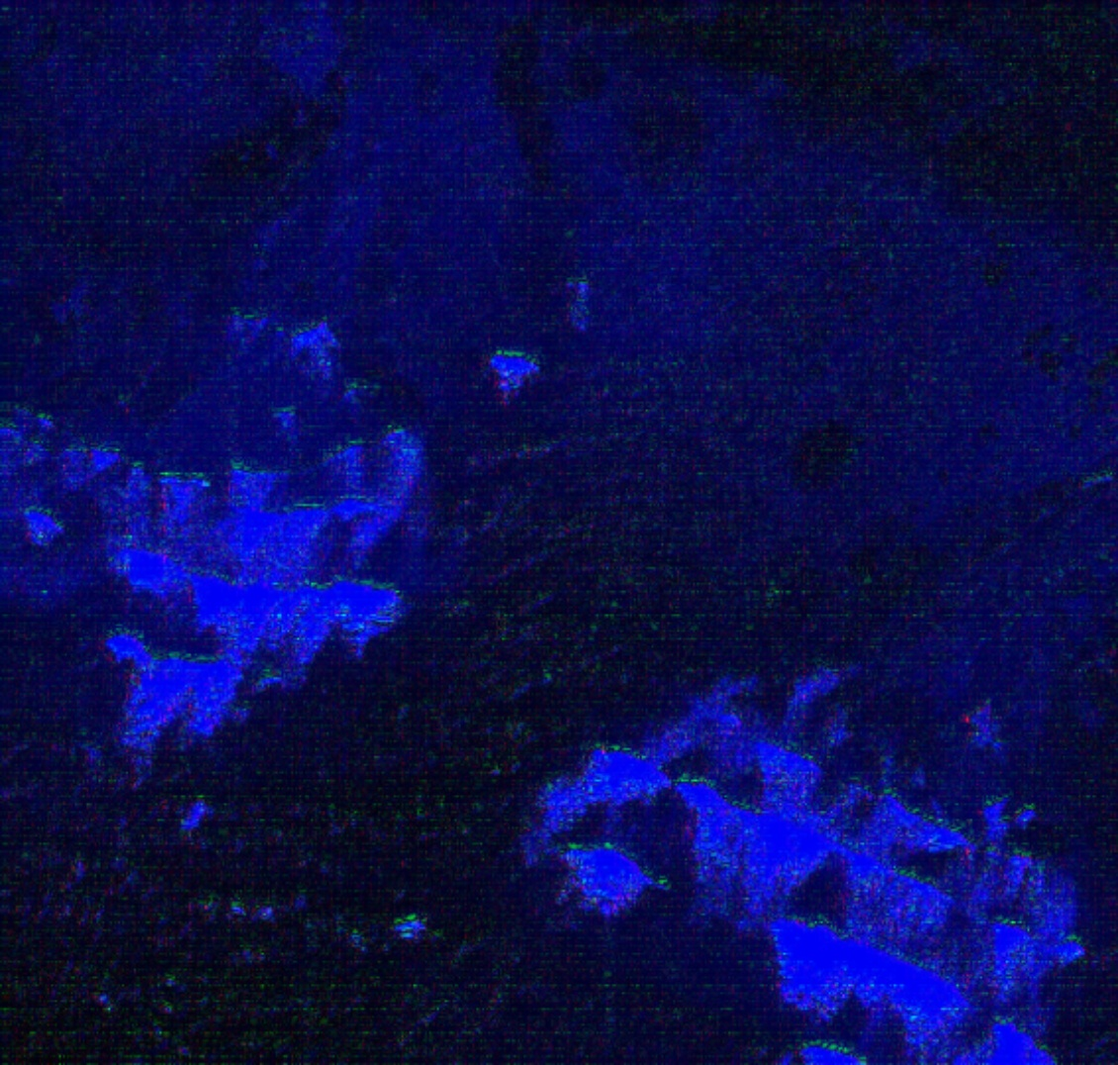rip_current: (195, 424, 786, 844)
